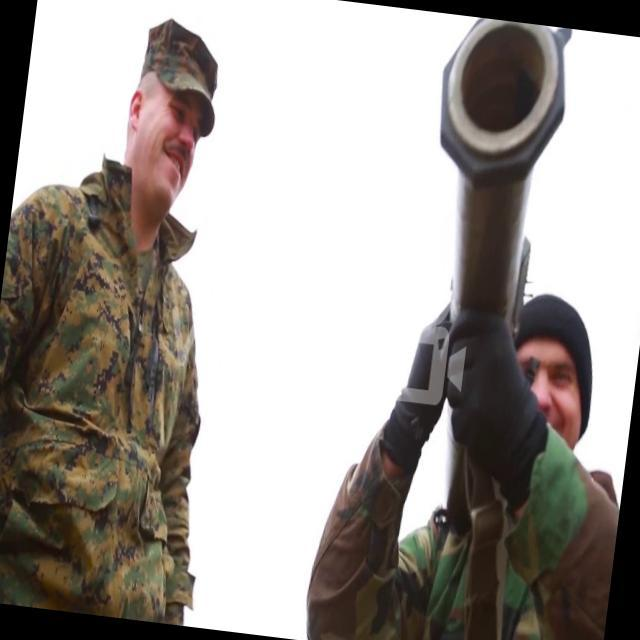rocket: (413, 13, 576, 330)
